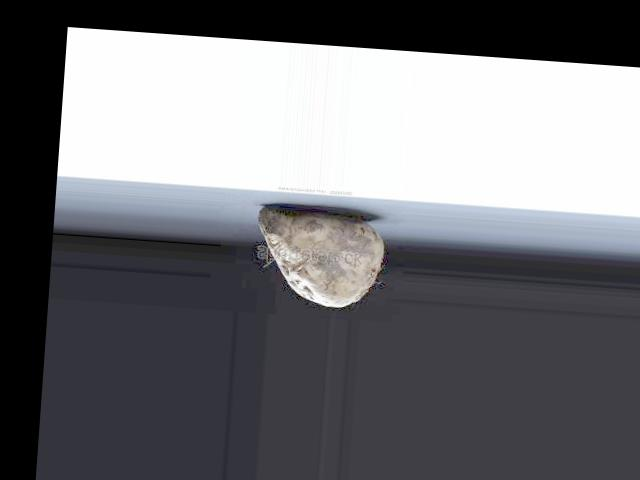beet: (254, 206, 388, 309)
